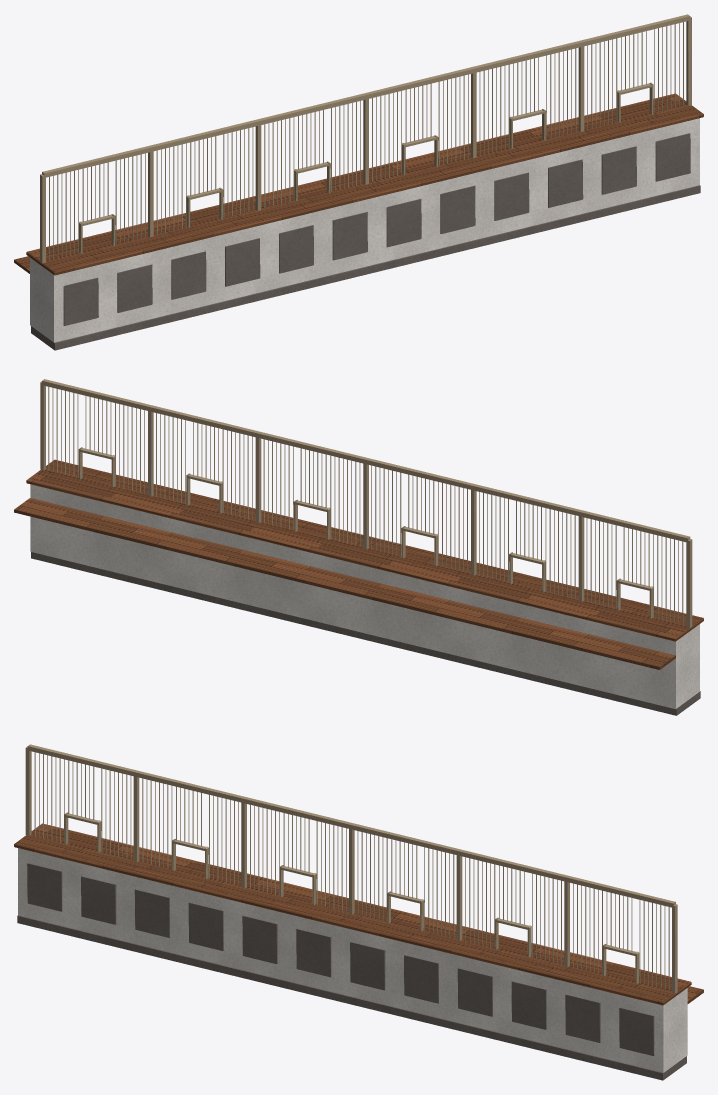
The model's file is teller.glb.
3 renders of one model, top to bottom at view 1: azimuth 30°, elevation 25°; view 2: azimuth 150°, elevation 25°; view 3: azimuth 330°, elevation 25°, orthographic.
Visible parts, largest first — view 1: teller_marble, teller_bronze, teller_marble2, teller_wood; view 2: teller_marble, teller_wood, teller_bronze, teller_marble2; view 3: teller_marble, teller_bronze, teller_marble2, teller_wood.
Boxes of the visible parts, x1,y1,x2,y2 form: teller_marble: (30,118,699,342); teller_bronze: (40,14,691,263); teller_marble2: (31,133,700,350); teller_wood: (14,93,703,275); teller_marble: (30,484,699,709); teller_wood: (14,459,703,669); teller_bronze: (40,379,692,628); teller_marble2: (31,552,700,715); teller_marble: (18,848,687,1072); teller_bronze: (25,744,677,993); teller_marble2: (17,863,686,1080); teller_wood: (14,823,703,1005).
Size of the model in its own units: 9.36 by 2.33 by 1.06.
Materials: 4 (3 with a texture image).
